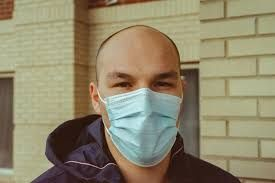with-mask: (89, 29, 189, 168)
